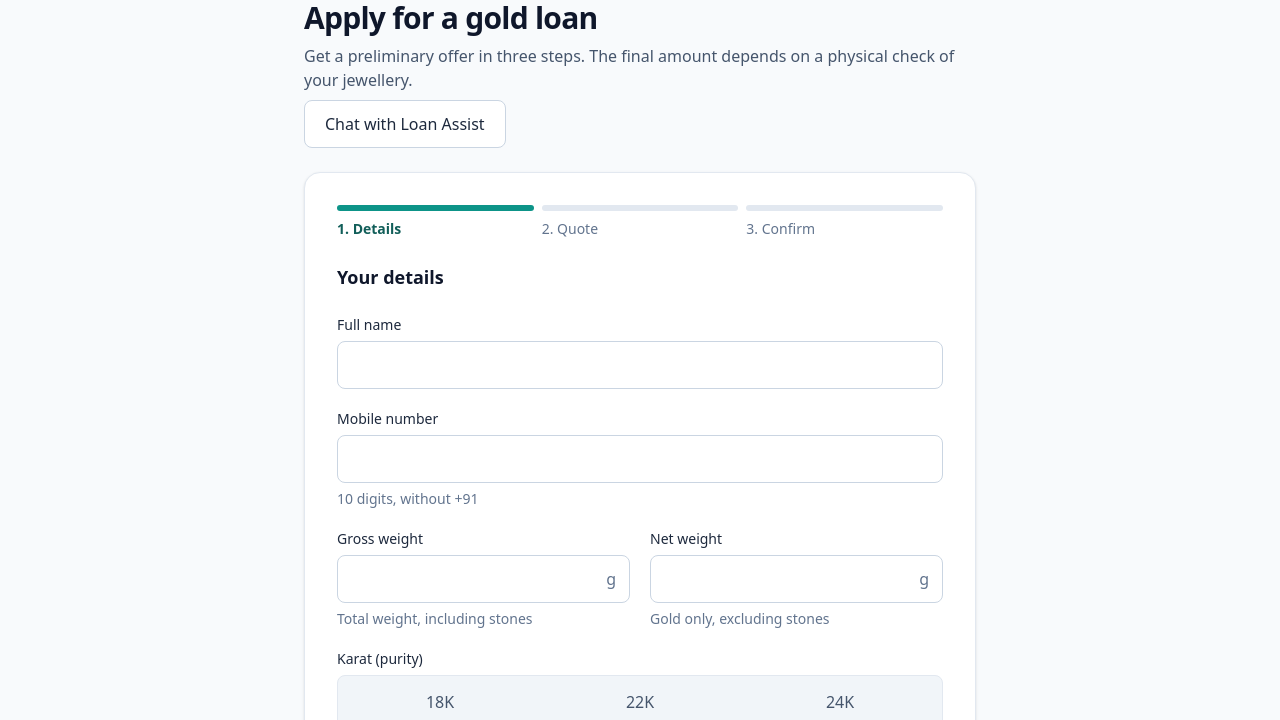
Test case: Loan Assist panel › Cancel → /chat/cancel and the card says nothing was sent
Click the button "Chat with Loan Assist" at (405, 124), box [304, 100, 506, 148]
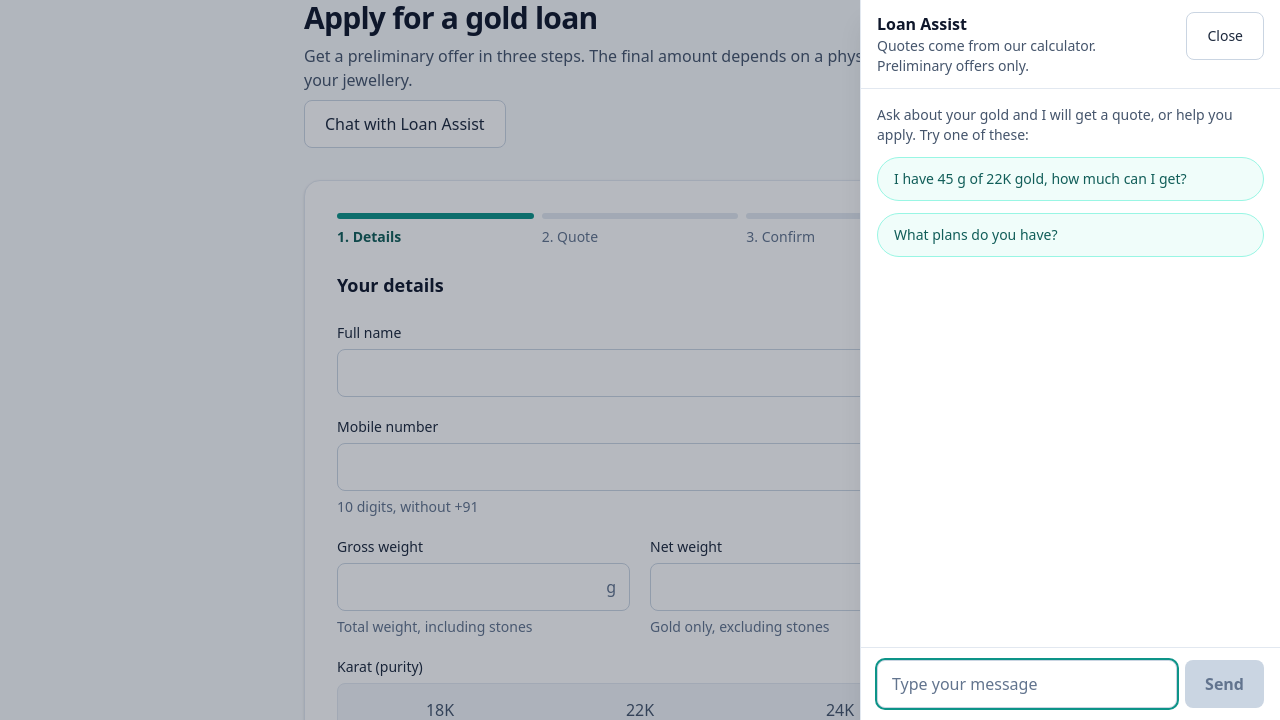
Type "apply me" into the field named "Message Loan Assist" at (1027, 684), box [877, 660, 1177, 708]
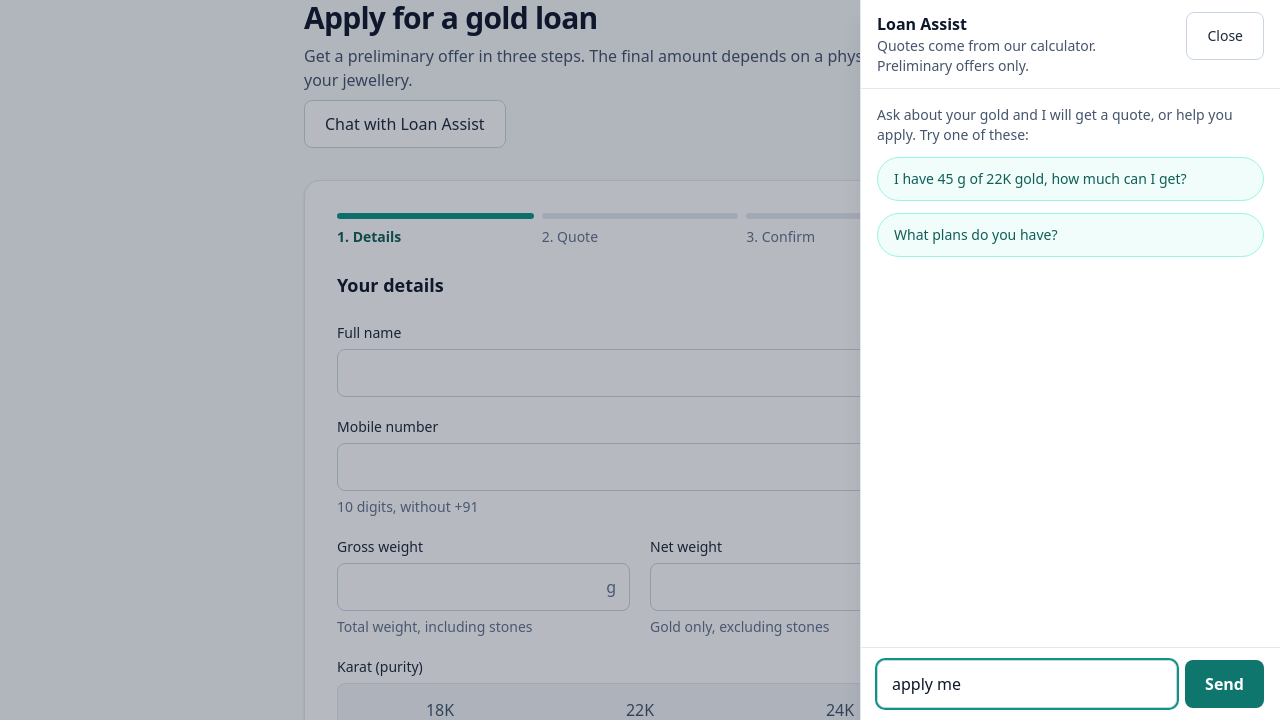
Submit the form named "Message Loan Assist", box [861, 647, 1279, 719]
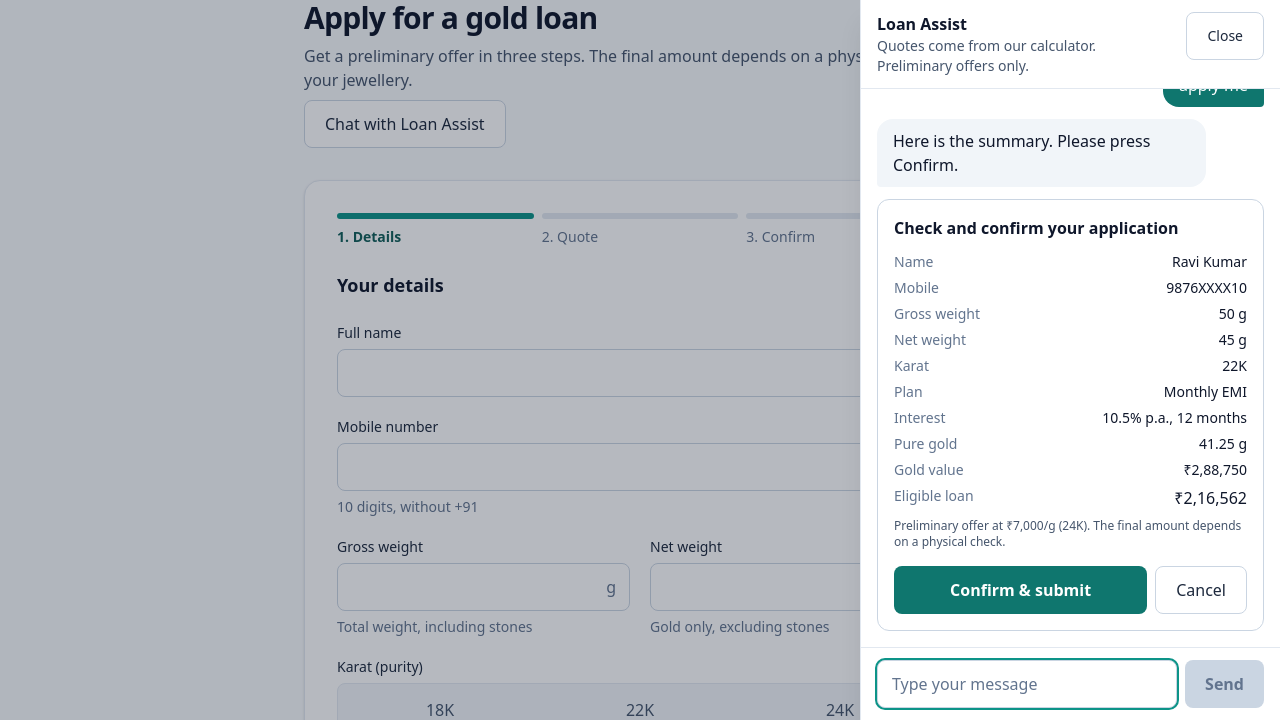
Click the button "Cancel" at (1201, 590), box [1155, 566, 1247, 614]
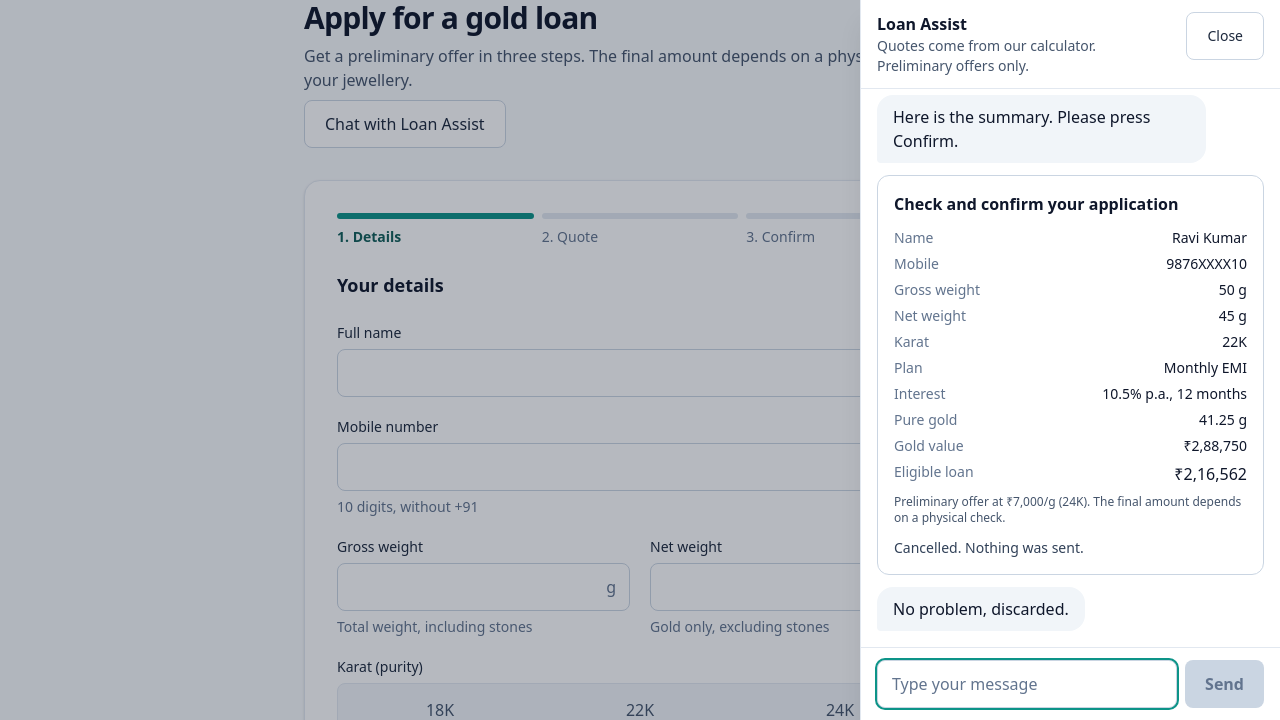
Now the text "Cancelled. Nothing was sent." is shown, box [894, 538, 1084, 557]
Now the button "Confirm & submit" is gone
